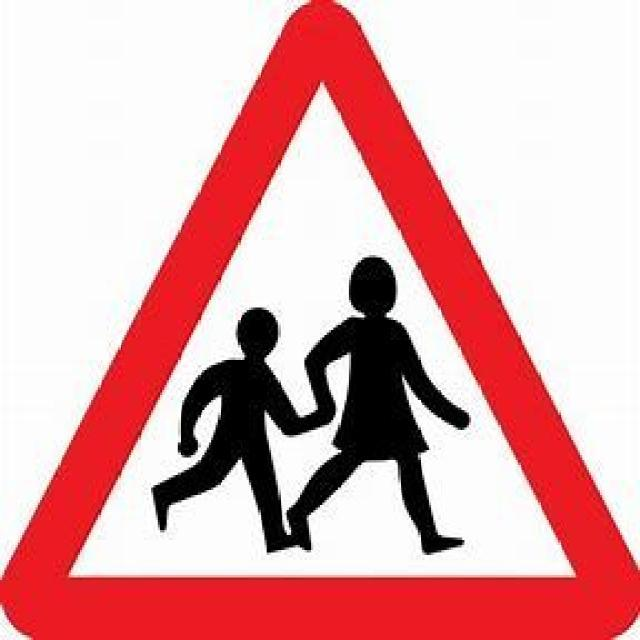school ahead: (25, 30, 613, 605)
